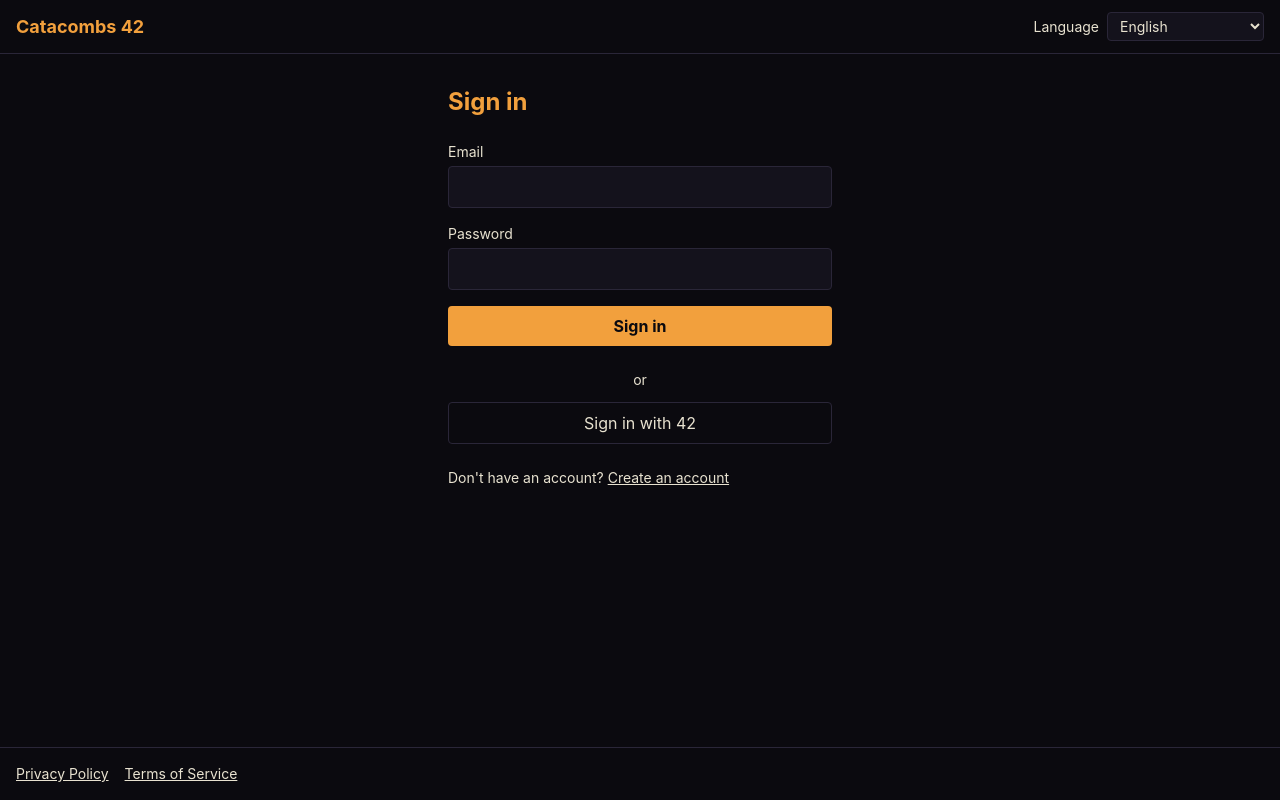
Login: envio › manda o e-mail normalizado
expect the heading "Sign in" is shown: met, box [448,87,528,116]
Type "  Augusto@Example.com " into the field labelled "Email" at (640, 187), box [448,166,832,208]
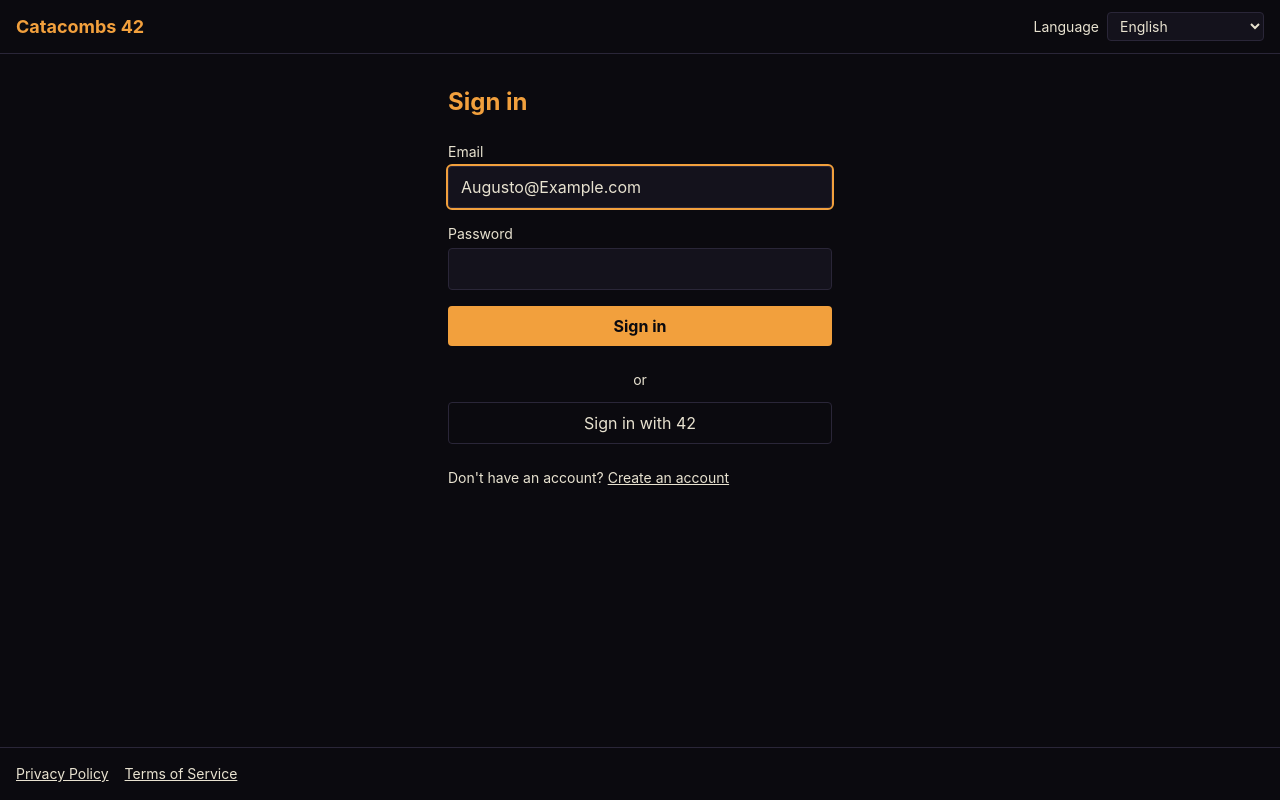
Type "x" into the password field labelled "Password" at (640, 269), box [448,248,832,290]
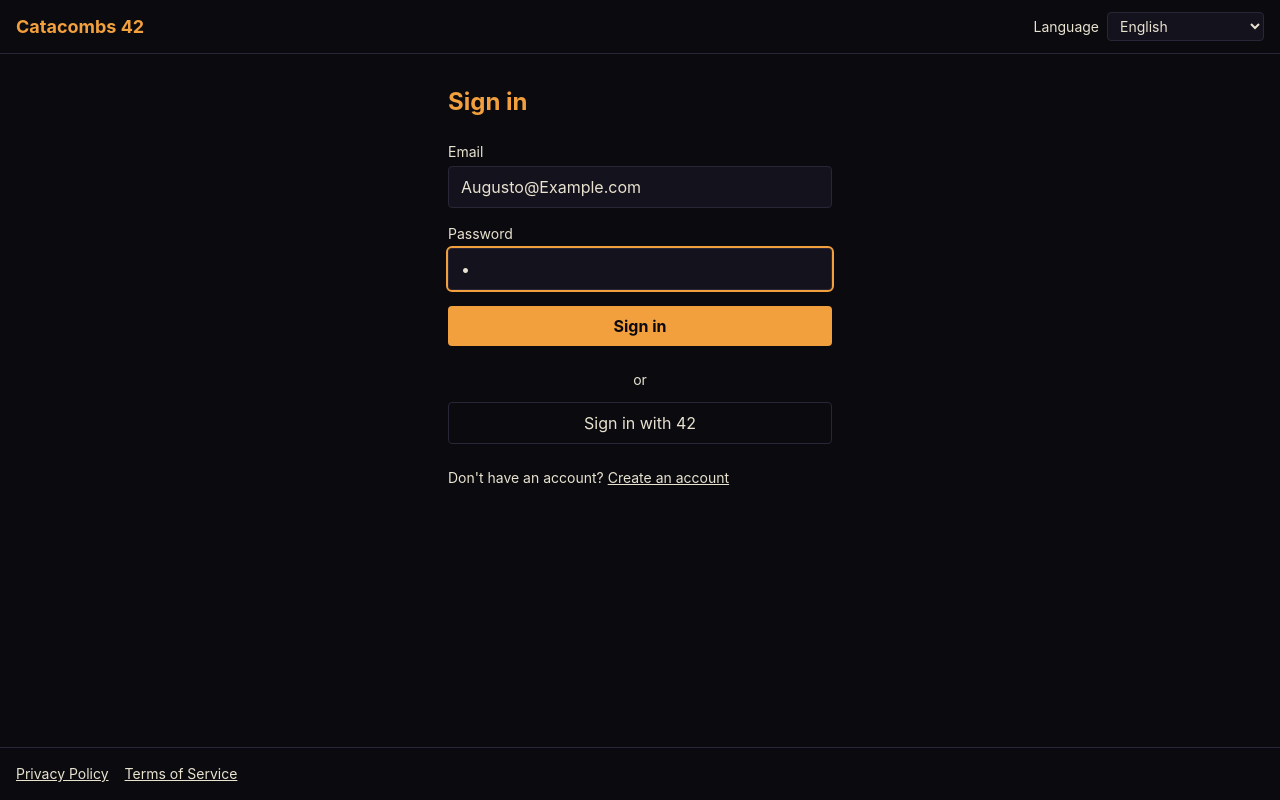
Click the button "Sign in" at (640, 326), box [448,306,832,346]
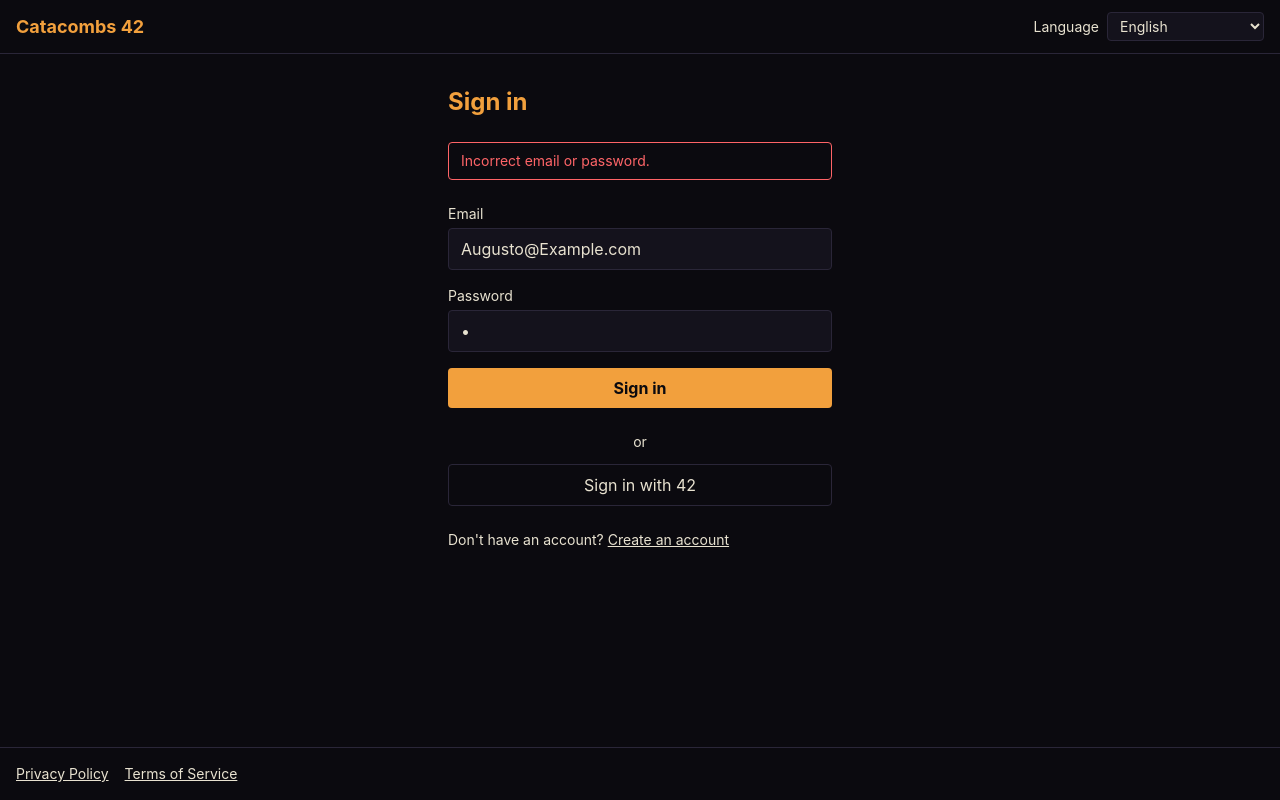
expect the message "Incorrect email or password." is shown: met, box [448,142,832,180]
